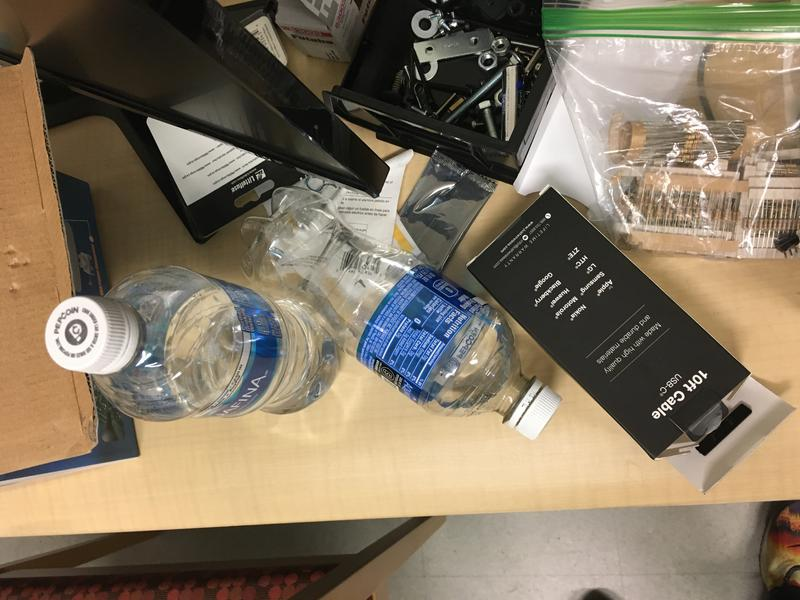bottle: (239, 184, 565, 448), (41, 265, 344, 425)
